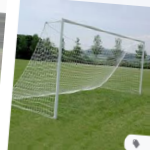goals: (21, 16, 147, 122)
